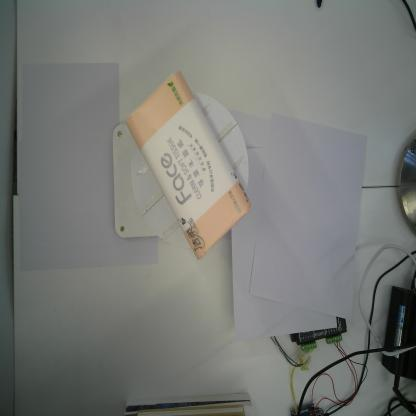Tissue: (125, 68, 252, 260)
